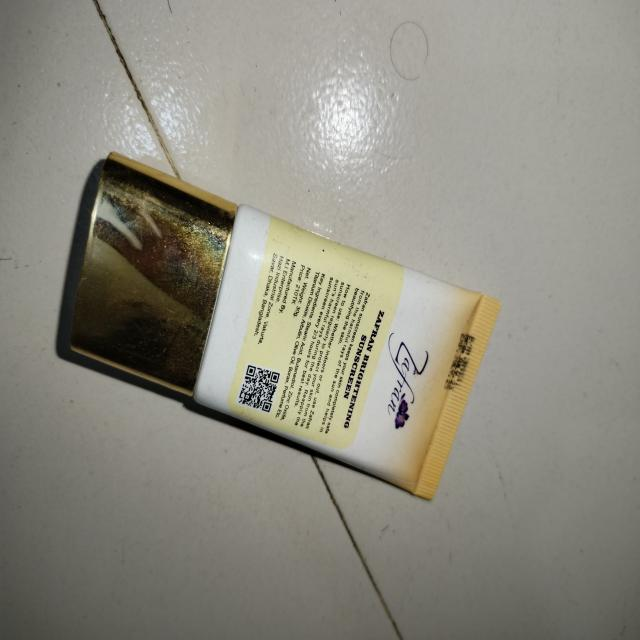Squeeze Tube: (58, 130, 526, 541)
